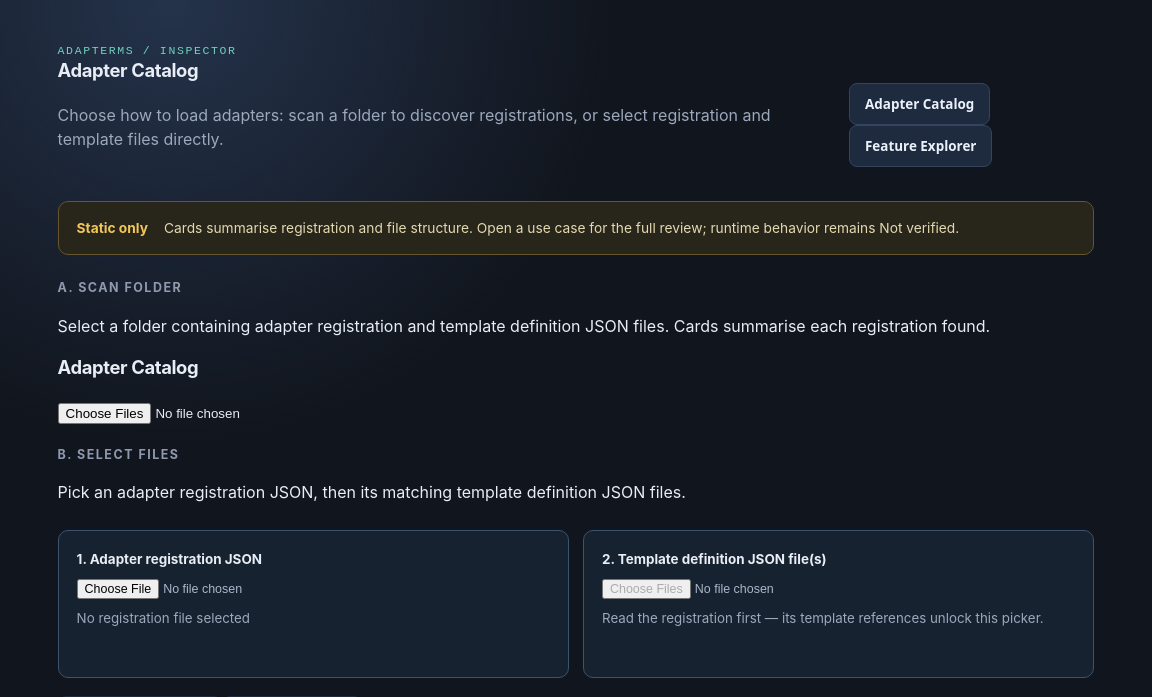
Test case: Back to Features List flow › clicking ← Back to Features List switches to discovery mode
Click the tab "Feature Explorer".
click(921, 146)  # box top-left (849, 125), bottom-right (992, 167)
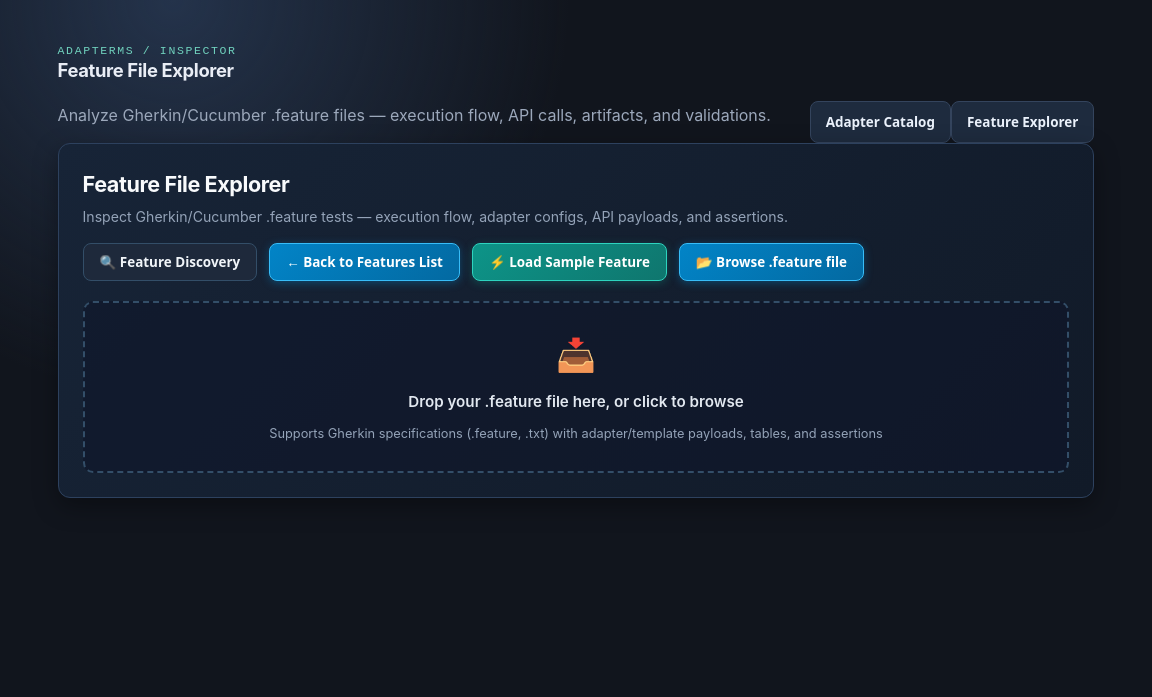
Check: the text "← Back to Features List" is shown
Click the button "← Back to Features List".
click(365, 262)  # box top-left (269, 243), bottom-right (460, 281)
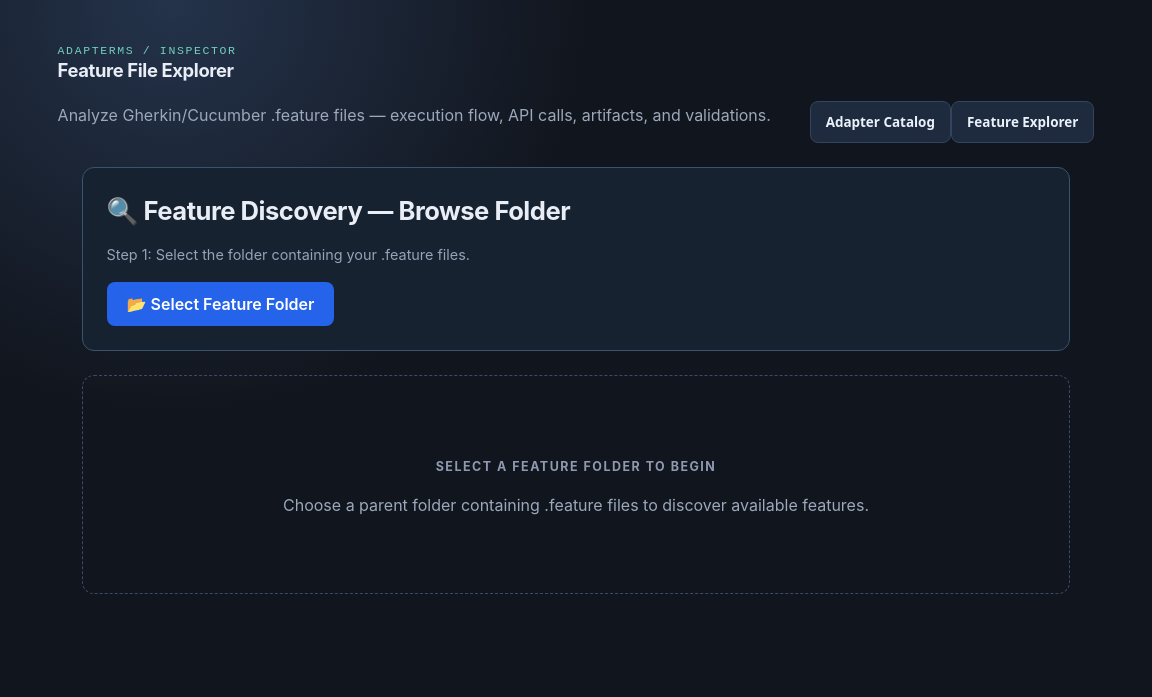
Check: the text "Feature Discovery — Browse Folder" is shown, box top-left (107, 195), bottom-right (570, 226)
Check: the text "Select Feature Folder" is shown, box top-left (127, 294), bottom-right (314, 314)
